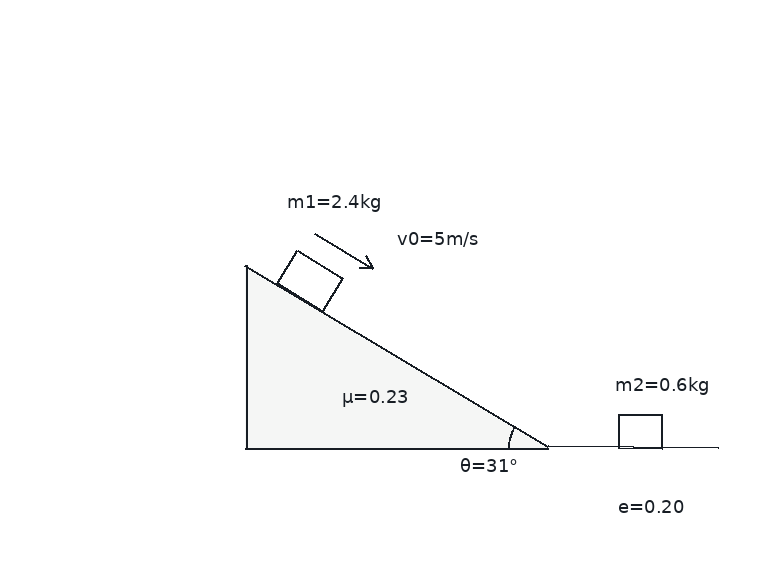block: (274, 248, 344, 313), (616, 413, 664, 449)
ramp: (244, 263, 551, 449)
